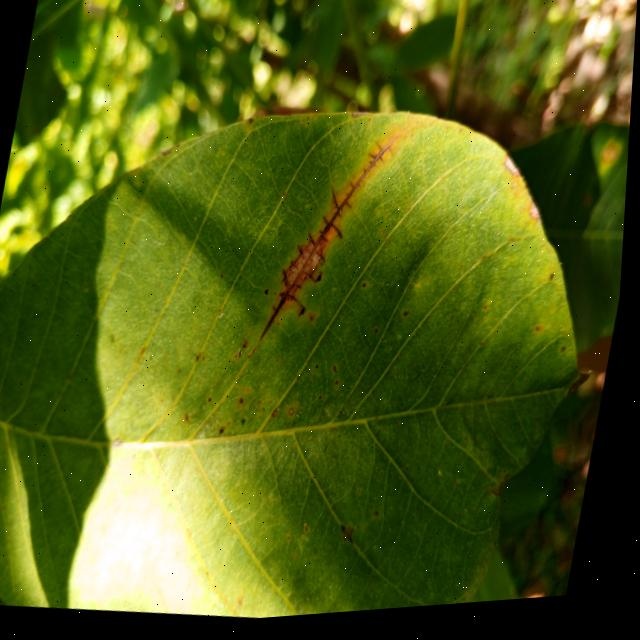Corynespora: (262, 127, 401, 356)
